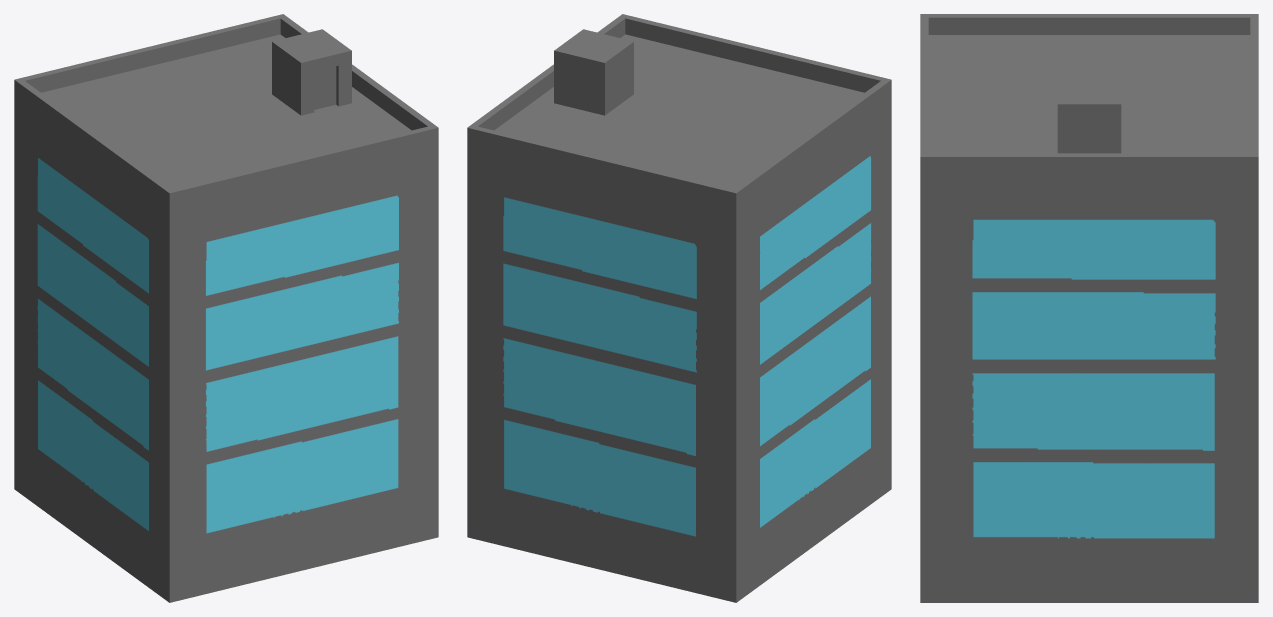
Rendered from building3.glb.
3 renders of one model, left to right at view 1: azimuth 30°, elevation 25°; view 2: azimuth 150°, elevation 25°; view 3: azimuth 270°, elevation 25°, orthographic. The views are drawn at different scales.
Visible parts, largest first — view 1: Cube.001; view 2: Cube.001; view 3: Cube.001.
Part boxes in pixels (box(x1,y1,x2,y2)): Cube.001: box(14, 14, 438, 602); Cube.001: box(467, 14, 891, 602); Cube.001: box(920, 14, 1258, 602).
Size of the model in its own units: 10.61 by 17.82 by 10.61.
1 material, 1 textured.
